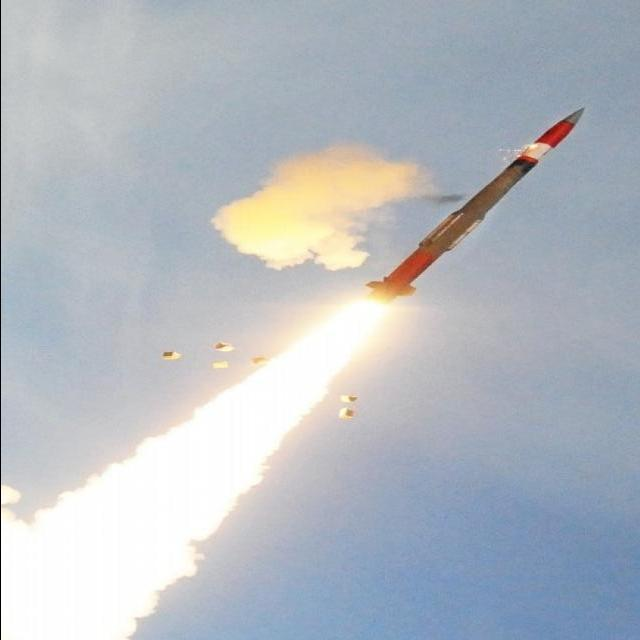missile: (347, 106, 601, 318)
